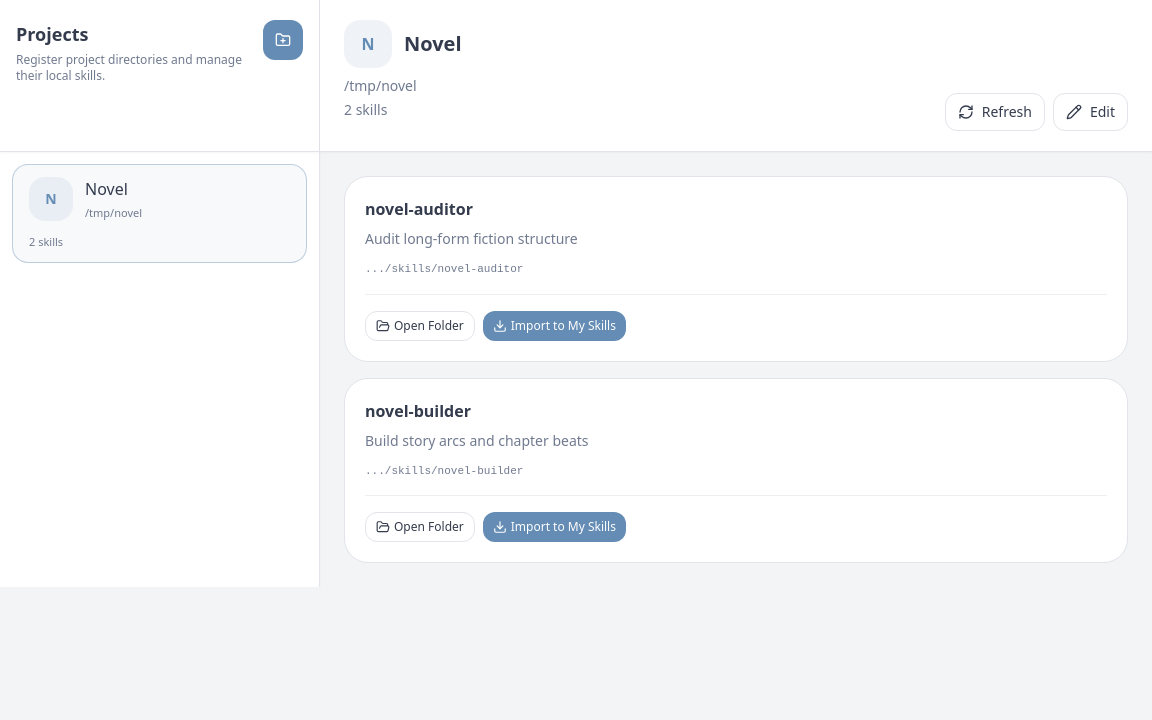
Scenario: SkillProjectsView › shows project skill cards first and only opens full detail after click
This screenshot has width=1152, height=720.
Check: the text "Novel" is shown 2 times, box x1=85 y1=178 x2=128 y2=200; x1=404 y1=30 x2=462 y2=58
Check: the text "novel-auditor" is shown, box x1=365 y1=197 x2=473 y2=221
Click the button "novel-auditor". click: click(419, 209)
box: x1=365 y1=197 x2=1107 y2=278
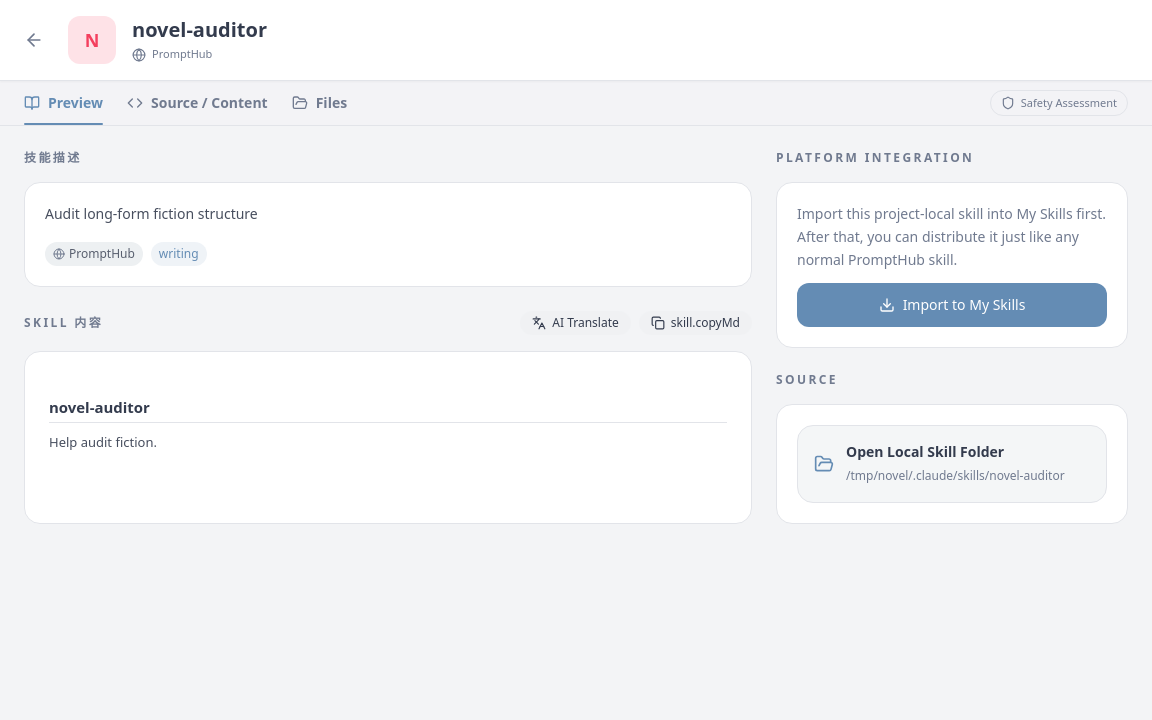
Check: the text "Source / Content" is shown, box x1=127 y1=93 x2=268 y2=113
Check: the text "Preview" is shown, box x1=24 y1=93 x2=103 y2=113
Check: the text "Files" is shown, box x1=292 y1=93 x2=347 y2=113
Click the button named "back". click: click(34, 40)
box: x1=16 y1=22 x2=52 y2=58
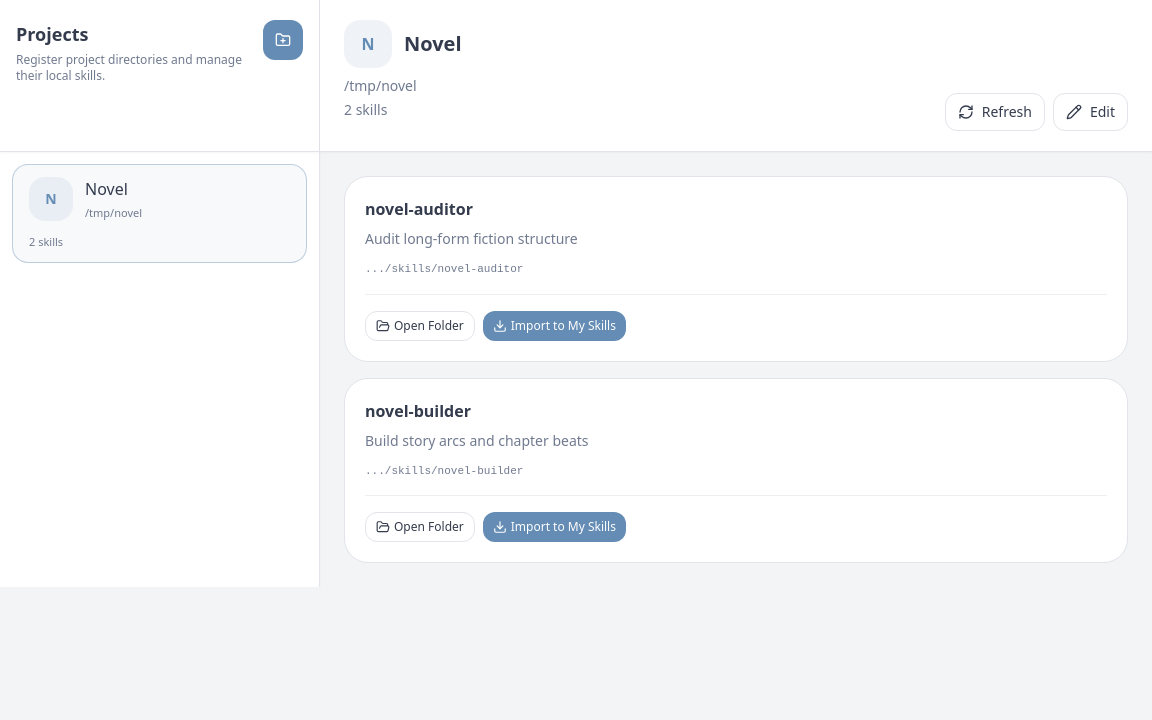
Check: the text "novel-auditor" is shown, box x1=365 y1=197 x2=473 y2=221
Check: the button "Source / Content" is gone
Check: the text "novel-builder" is shown, box x1=365 y1=398 x2=471 y2=422
